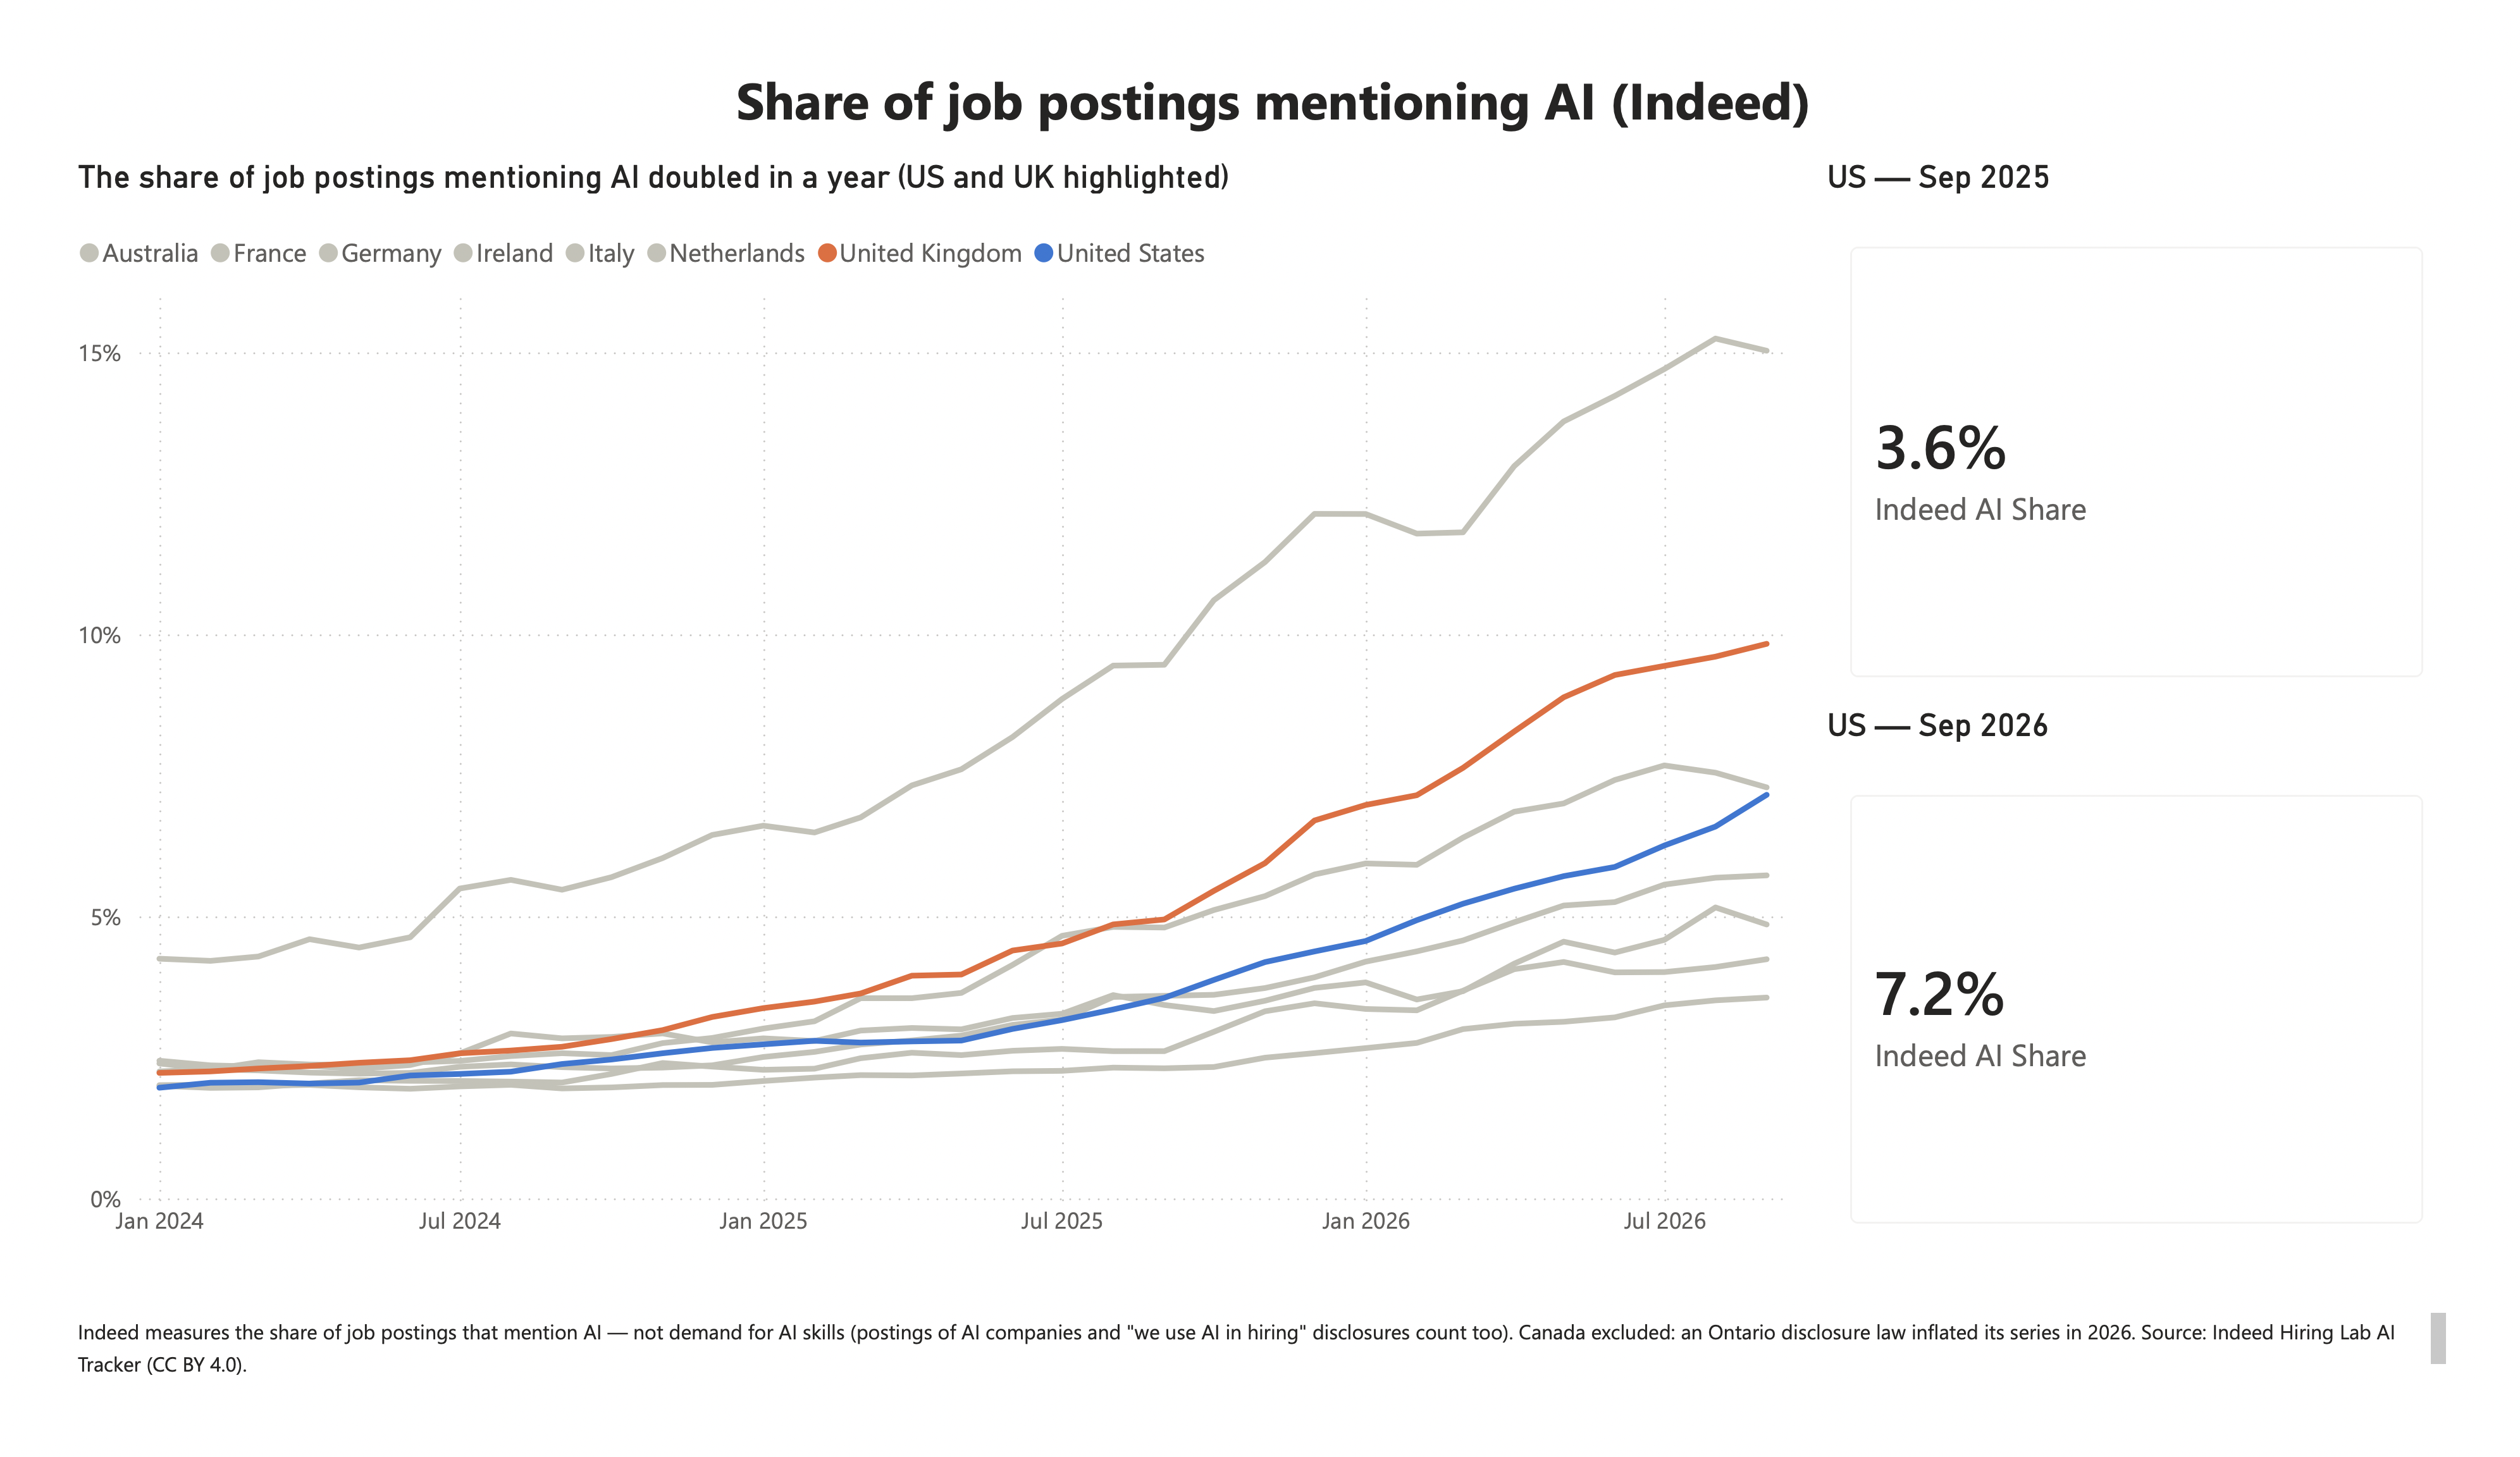

This screenshot's page, from the dashboard's own definition file:
{"tool":"powerbi","page":{"name":"Hiring Side","canvas":[1280,720],"ordinal":2},"visuals":[{"type":"textbox","box":[359.1,5.5,596.2,54],"z":0},{"type":"lineChart","title":"The share of job postings mentioning AI doubled in a year (US and UK highlighted)","fields":{"Category":["dim_date.month_start"],"Y":["_Measures.Indeed AI Share"],"Series":["dim_country.country_name"]},"box":[11.7,59.5,922.4,579],"z":1000},{"type":"cardVisual","title":"US — Sep 2025","fields":{"Data":["_Measures.Indeed AI Share"]},"box":[934.2,59.5,335.6,290.3],"z":2000},{"type":"cardVisual","title":"US — Sep 2026","fields":{"Data":["_Measures.Indeed AI Share"]},"box":[934.2,348.2,335.6,290.3],"z":3000},{"type":"textbox","box":[11.7,662.7,1258.1,46.9],"z":4000}]}

Visuals, with their boxes in screenshot pixels (x1, y1, x2, y2), scaled from the page's 1280x720 canvas onto the 2520x1457 screenshot:
textbox: bbox=(707, 11, 1881, 120)
"The share of job postings mentioning AI doubled in a year (US and UK highlighted)" lineChart: bbox=(23, 120, 1839, 1292)
"US — Sep 2025" cardVisual: bbox=(1839, 120, 2500, 708)
"US — Sep 2026" cardVisual: bbox=(1839, 704, 2500, 1292)
textbox: bbox=(23, 1341, 2500, 1436)
